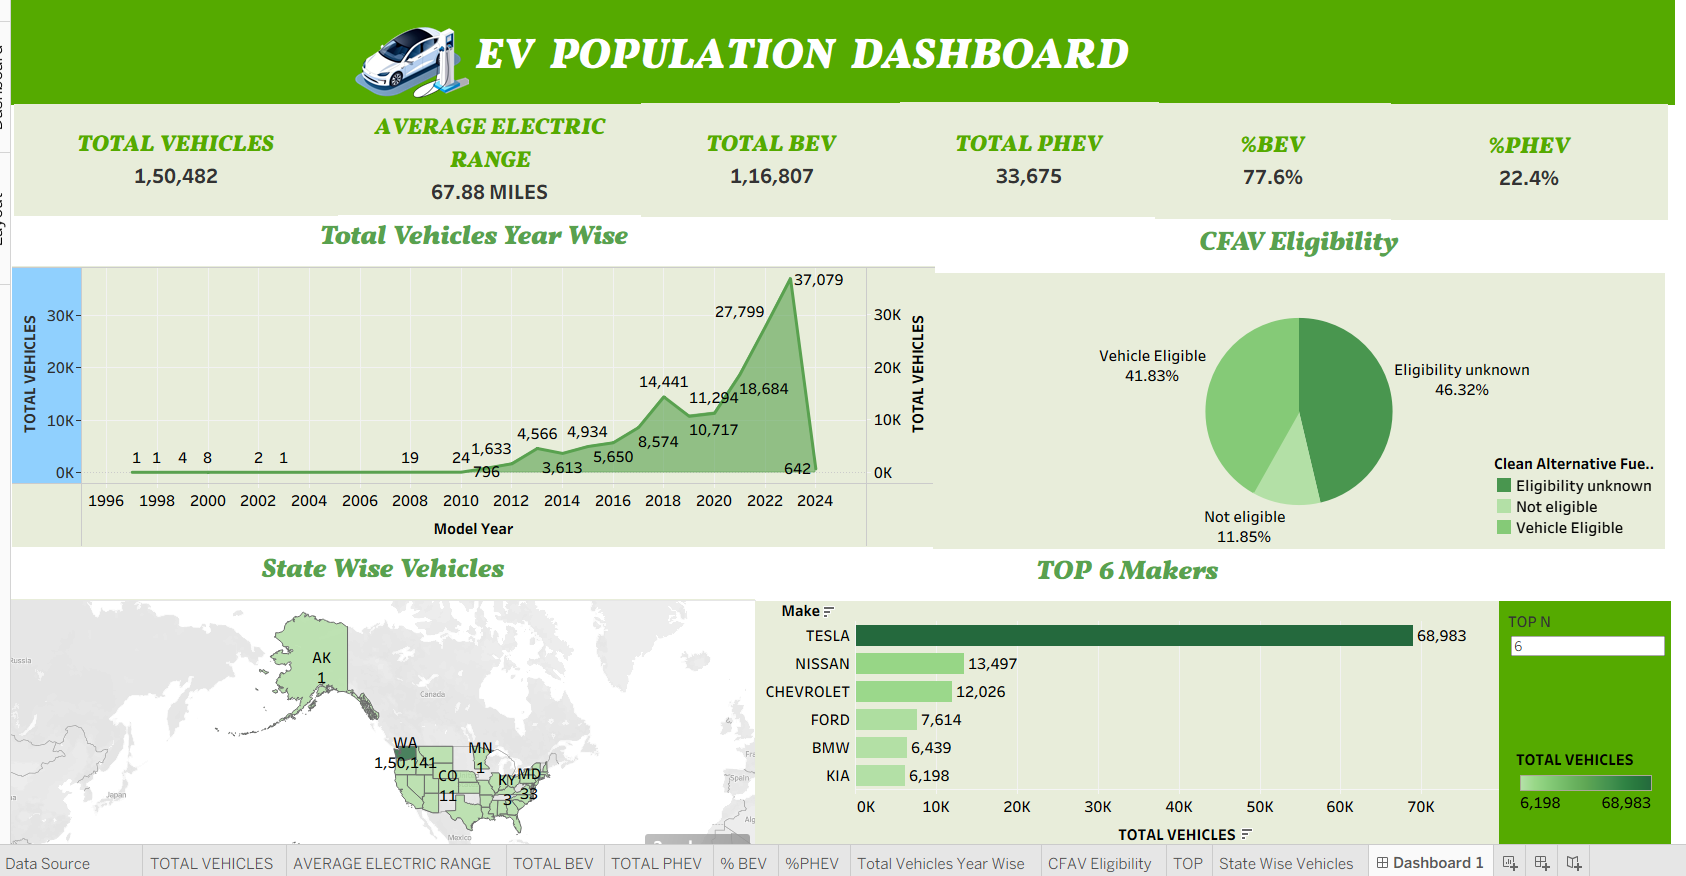

This screenshot's page, from the dashboard's own definition file:
{"tool":"tableau","page":{"name":"Dashboard 1","canvas":[1000,1000],"units":"permille","ordinal":0},"visuals":[{"type":"image","param":"C:/Users/HOME/Downloads/EV car.png","box":[185.2,9.6,124.7,142.5]},{"type":"text","box":[253.3,16.8,526.9,119.8]},{"type":"worksheet","title":"TOTAL PHEV","mark":"Automatic","box":[488.5,129.3,142.3,135.3]},{"type":"worksheet","title":"TOTAL BEV","mark":"Automatic","box":[346.2,130.5,144,134.1]},{"type":"worksheet","title":"% BEV","mark":"Automatic","box":[628.6,130.5,129.7,136.5]},{"type":"worksheet","title":"TOTAL VEHICLES","mark":"Automatic","box":[1.7,131.7,178,131.7]},{"type":"worksheet","title":"AVERAGE ELECTRIC RANGE","mark":"Automatic","box":[179.7,131.7,167.6,130.5]},{"type":"worksheet","title":"%PHEV","mark":"Automatic","box":[758.2,131.7,152.2,136.5]},{"type":"worksheet","title":"Total Vehicles Year Wise","mark":"Area","rows":["Calculation_0484936418861056","Calculation_0484936418861056"],"cols":["Model Year"],"box":[0.6,261.1,507.7,390.4]},{"type":"worksheet","title":"CFAV Eligibility","mark":"Pie","box":[506.6,267.1,402.2,386.8]},{"type":"legend","title":"CFAV Eligibility","param":"[federated.0k1k1v707tddyw1323jkd1uzsbj7].[none:Clean Alternative Fuel Vehicle (C","box":[814.8,541.3,89.6,101.8]},{"type":"parameter","param":"[Parameters].[Parameter 0219955125010432]","box":[822.5,727,87.9,57.5]},{"type":"legend","title":"TOP","param":"[federated.0k1k1v707tddyw1323jkd1uzsbj7].[usr:Calculation_0484936418861056:qk]","box":[826.9,888.6,76.9,105.4]}]}

Visuals, with their boxes on the dashboard's canvas, which has no fixed pixel size, in thousandths of its width and height (x1, y1, x2, y2). These are canvas units, not pixel positions in the 1686x876 screenshot, which may show the page scaled, cropped or inside an application window:
image: {"left": 185, "top": 10, "right": 310, "bottom": 152}
text: {"left": 253, "top": 17, "right": 780, "bottom": 137}
"TOTAL PHEV" worksheet: {"left": 488, "top": 129, "right": 631, "bottom": 265}
"TOTAL BEV" worksheet: {"left": 346, "top": 130, "right": 490, "bottom": 265}
"% BEV" worksheet: {"left": 629, "top": 130, "right": 758, "bottom": 267}
"TOTAL VEHICLES" worksheet: {"left": 2, "top": 132, "right": 180, "bottom": 263}
"AVERAGE ELECTRIC RANGE" worksheet: {"left": 180, "top": 132, "right": 347, "bottom": 262}
"%PHEV" worksheet: {"left": 758, "top": 132, "right": 910, "bottom": 268}
"Total Vehicles Year Wise" worksheet (Area marks): {"left": 1, "top": 261, "right": 508, "bottom": 652}
"CFAV Eligibility" worksheet (Pie marks): {"left": 507, "top": 267, "right": 909, "bottom": 654}
"CFAV Eligibility" legend: {"left": 815, "top": 541, "right": 904, "bottom": 643}
parameter: {"left": 822, "top": 727, "right": 910, "bottom": 784}
"TOP" legend: {"left": 827, "top": 889, "right": 904, "bottom": 994}
